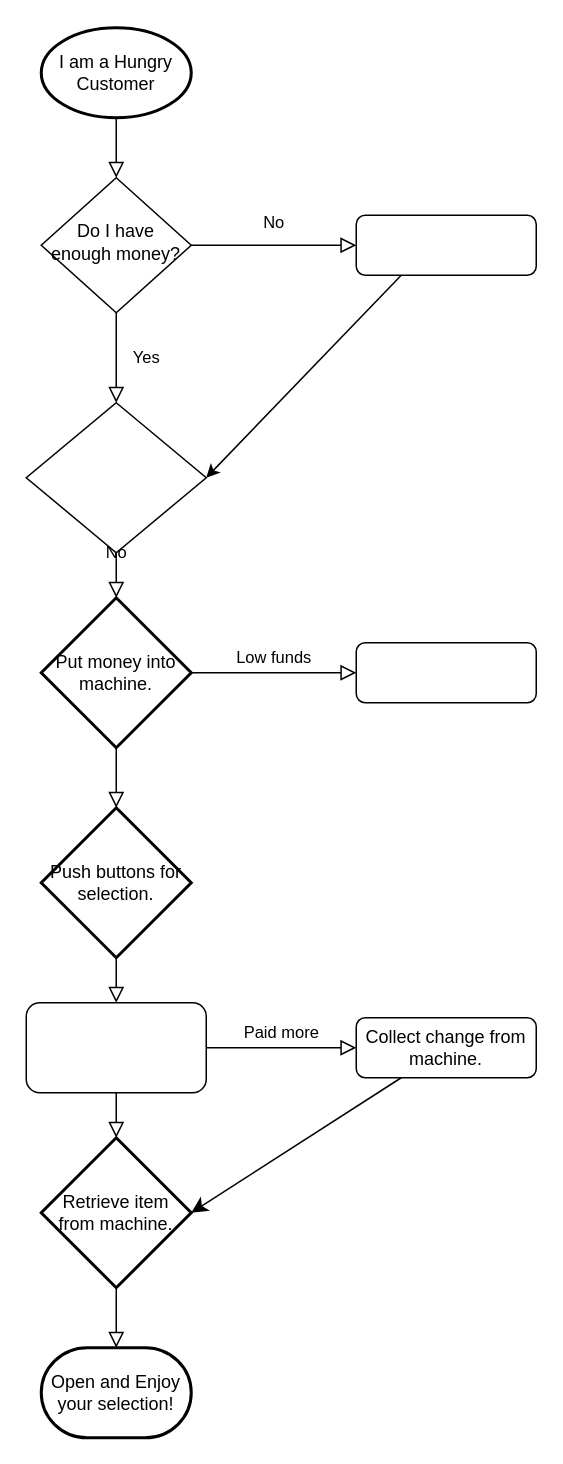
This 563x1464 diagram has some shape labels left out. The shapes that lost their labels are listed below. From the top down, each one's centre as x and y in pixels, then its label:
the point at 445,244: Get some money for machine.
the point at 115,477: Make choice and find the price.
the point at 445,672: Add more money
the point at 115,1047: Wait for machine to dispense item
